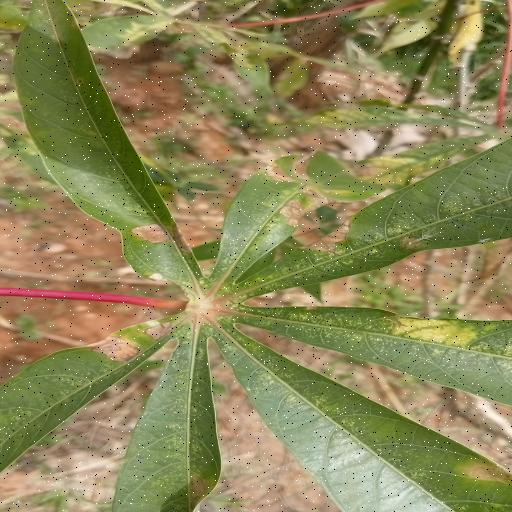Cassava_Root_Rot: (14, 5, 512, 512)
